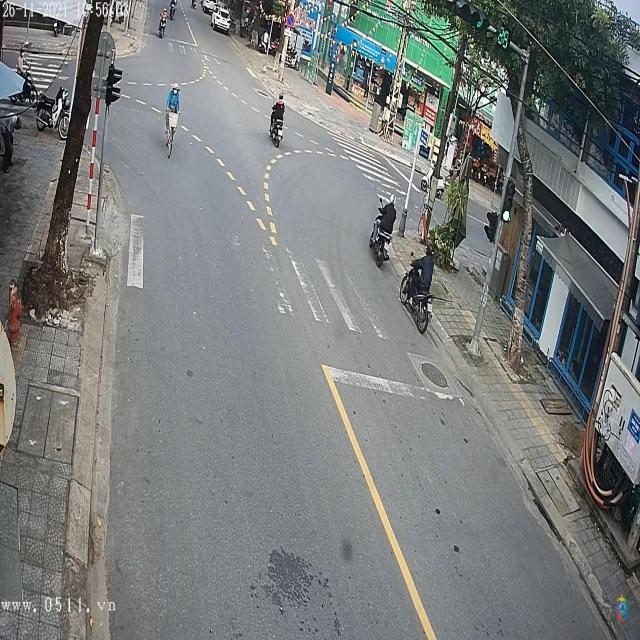motorcycle: (401, 254, 434, 337), (370, 205, 393, 266), (269, 115, 286, 148), (159, 12, 167, 41)
